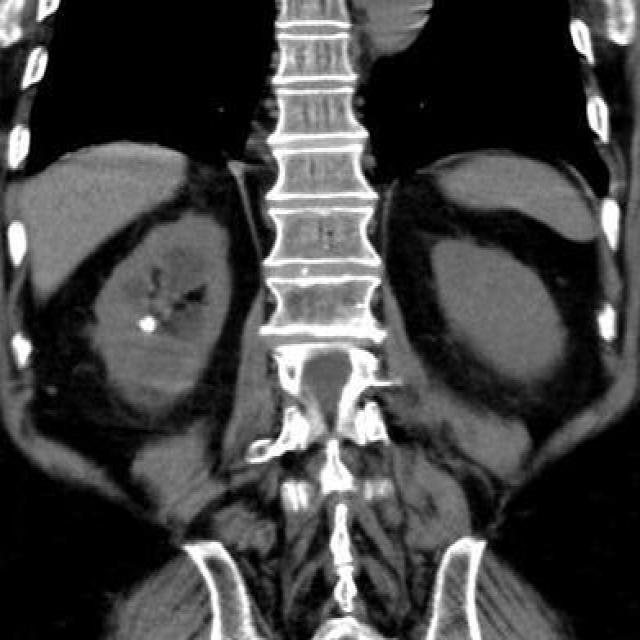Tas_Var: (136, 308, 159, 340)
